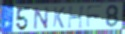5: (14, 6, 32, 31)
8: (105, 4, 120, 29)
F: (85, 5, 104, 29)
H: (67, 5, 87, 29)
K: (52, 7, 66, 29)
N: (34, 6, 50, 31)
